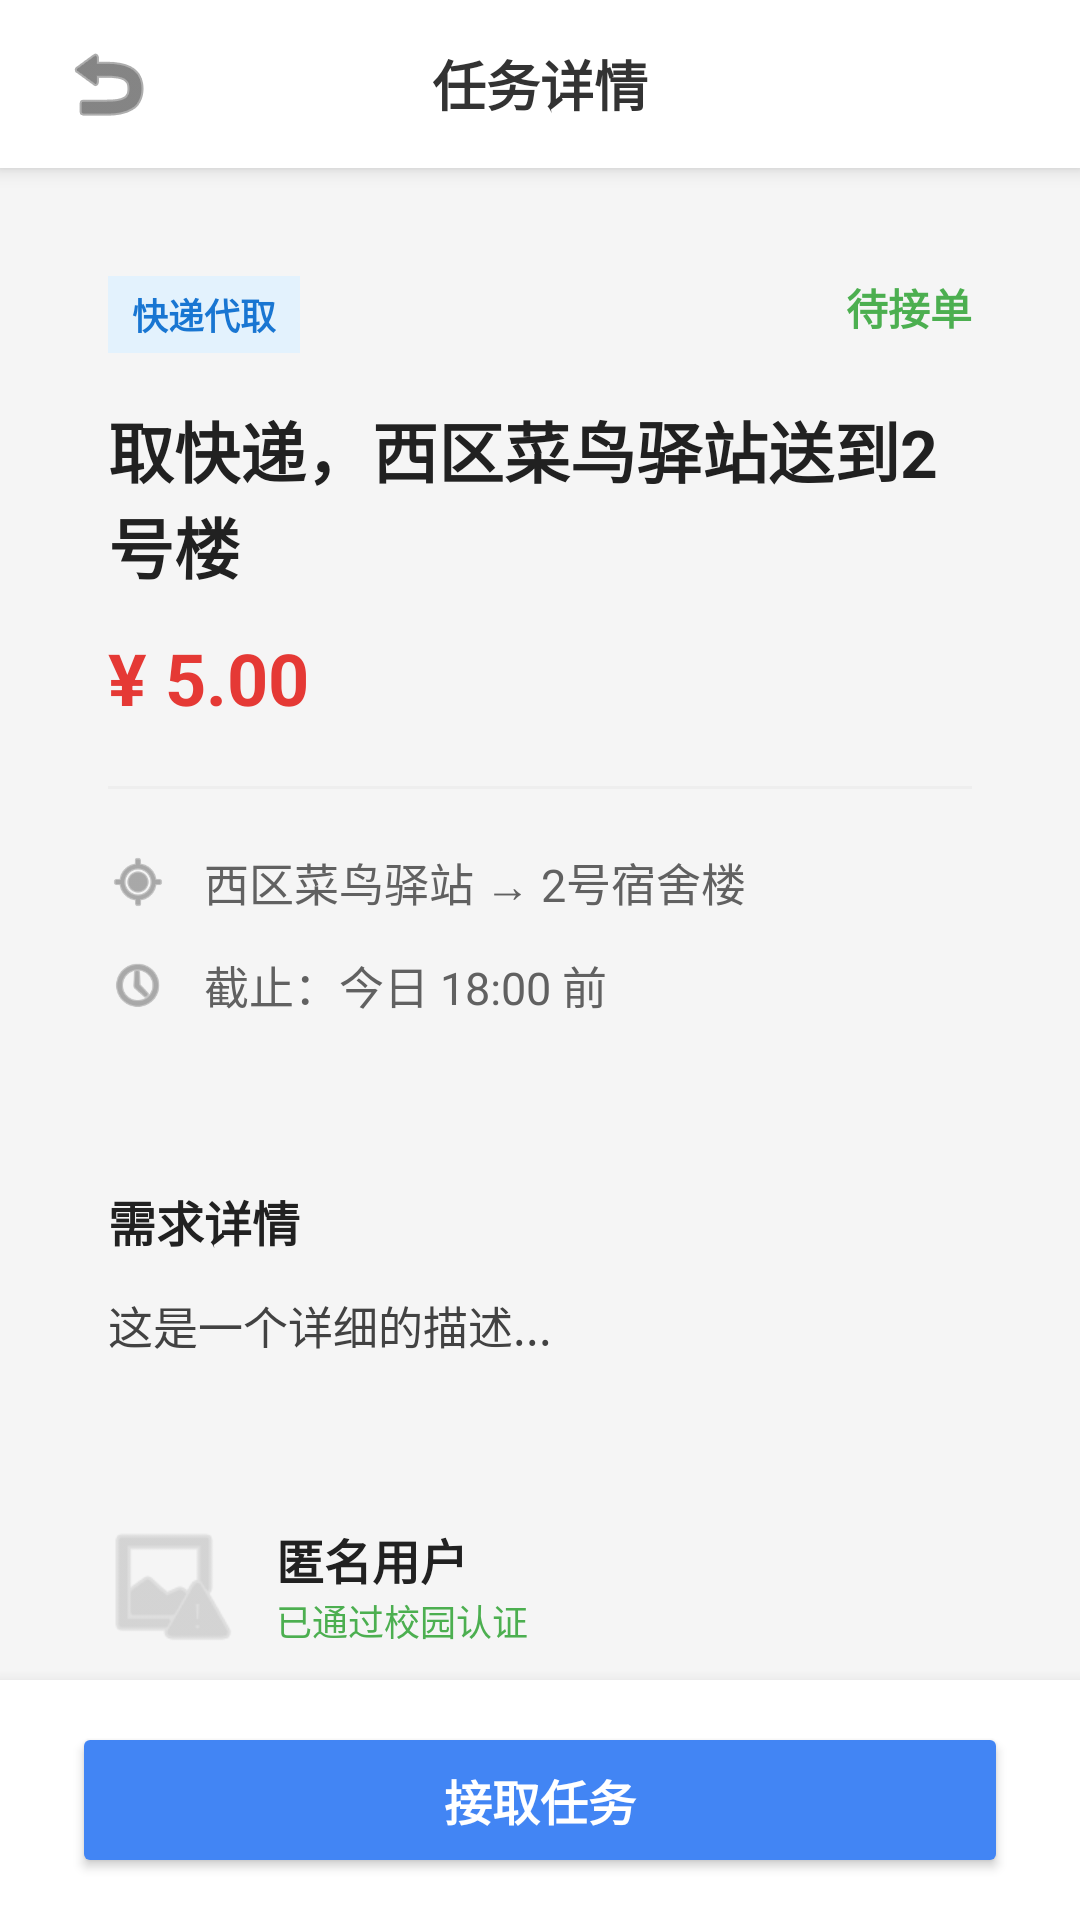

Named icons in this screenshot (1080 x 1920) and their centers, (x,y):
mylocation: (138,882)
recent history: (137,985)
revert: (109,84)
